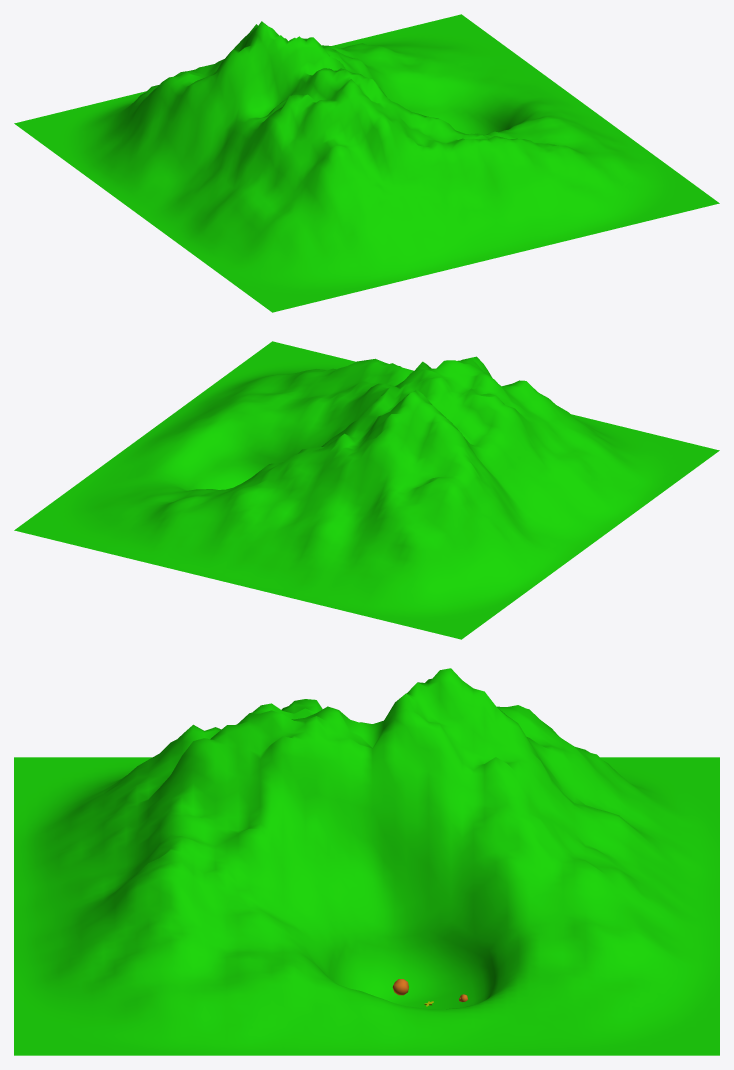
Rendered from terreno.fbx.
3 renders of one model, top to bottom at view 1: azimuth 30°, elevation 25°; view 2: azimuth 150°, elevation 25°; view 3: azimuth 270°, elevation 25°, orthographic. The views are drawn at different scales.
Parts seen in each view (by area): view 1: Landscape; view 2: Landscape; view 3: Landscape.
Part boxes in pixels (x1,y1,x2,y2): Landscape: (14,14,719,312); Landscape: (14,341,719,639); Landscape: (14,668,719,1055).
Bounding box in the file's own units: 2 × 0.7443 × 2.
